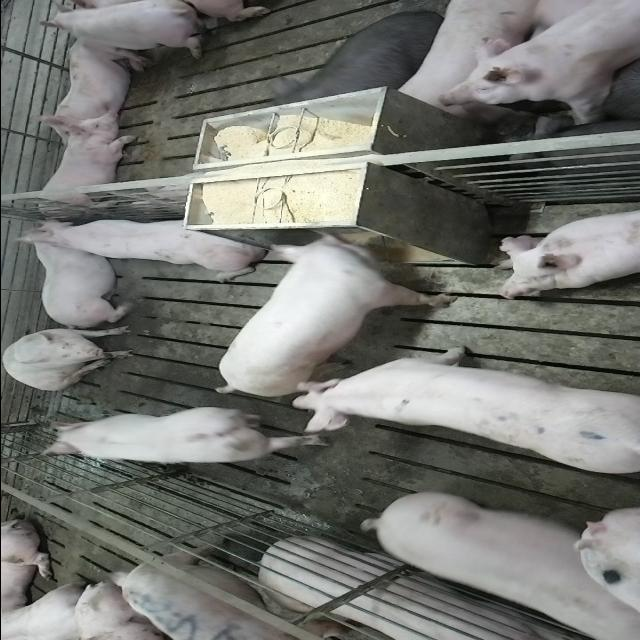Feeding: (207, 222, 450, 396)
Lateral_lying: (259, 539, 599, 640)
Sitting: (14, 214, 270, 272), (3, 326, 139, 390)
Standing: (286, 343, 636, 479), (453, 2, 640, 125), (107, 547, 350, 640), (394, 2, 550, 118), (39, 402, 279, 462)
Sternal_lying: (492, 206, 640, 296), (24, 118, 144, 218), (34, 2, 220, 64), (18, 220, 127, 324), (34, 34, 148, 132)
